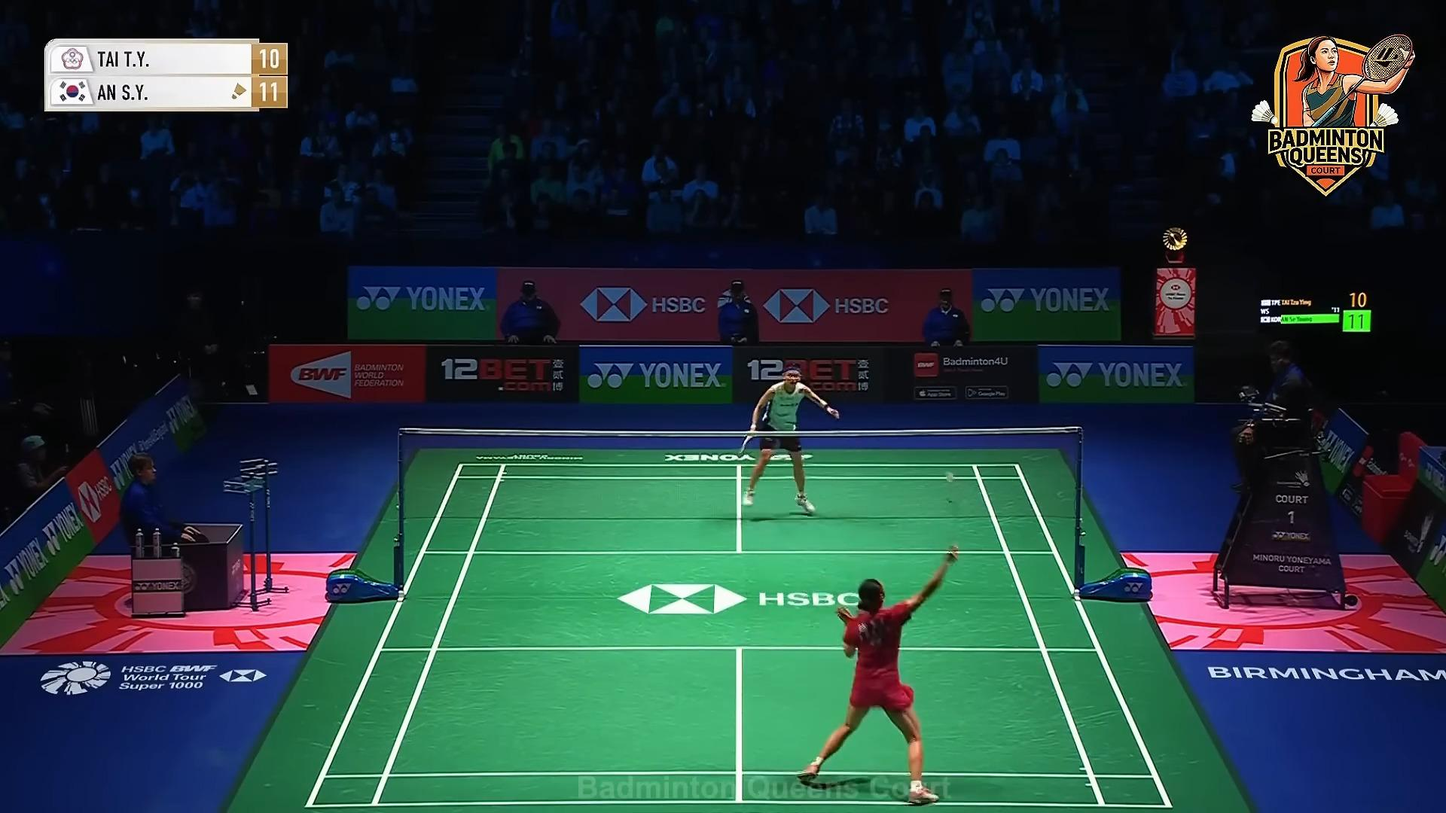player: (797, 544, 961, 807), (739, 361, 839, 514)
